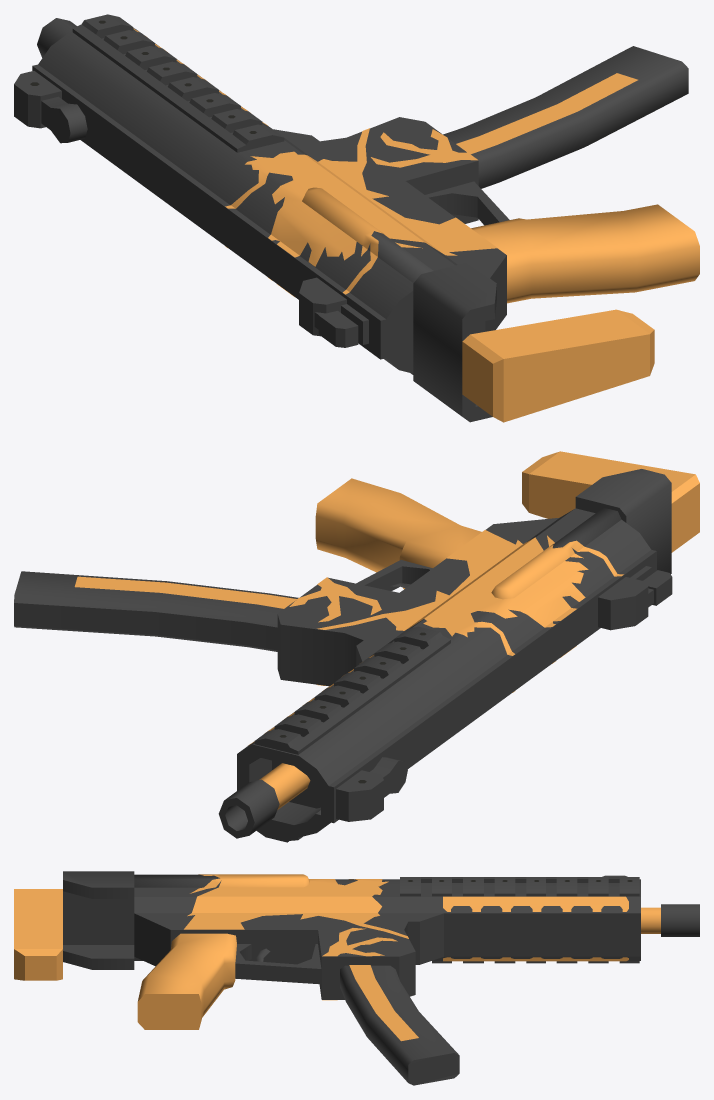
File: neru.glb
The picture shows the model from 3 angles, top to bottom: view 1: azimuth 30°, elevation 25°; view 2: azimuth 150°, elevation 25°; view 3: azimuth 270°, elevation 25°; orthographic projection. The views are drawn at different scales.
Parts seen in each view (by area): view 1: Neru_Original_Weapon_01; view 2: Neru_Original_Weapon_01; view 3: Neru_Original_Weapon_01.
Boxes of the visible parts, x1,y1,x2,y2 form: Neru_Original_Weapon_01: [14, 14, 699, 422]; Neru_Original_Weapon_01: [14, 451, 699, 842]; Neru_Original_Weapon_01: [14, 871, 699, 1085].
Bounding box in the file's own units: 0.2512 × 0.0514 × 0.389.
1 material, 1 textured.
